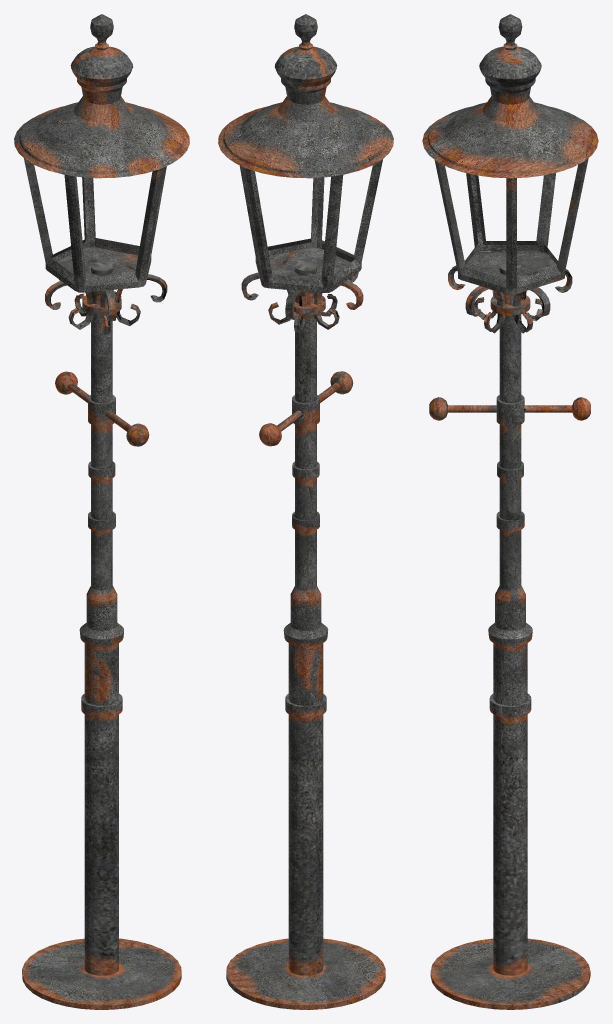
The model's file is street_lights.glb.
The picture shows the model from 3 angles, left to right: view 1: azimuth 30°, elevation 25°; view 2: azimuth 150°, elevation 25°; view 3: azimuth 270°, elevation 25°; orthographic projection.
Bounding box in the file's own units: 0.1999 × 1.2 × 0.1999.
1 material, 1 textured.
